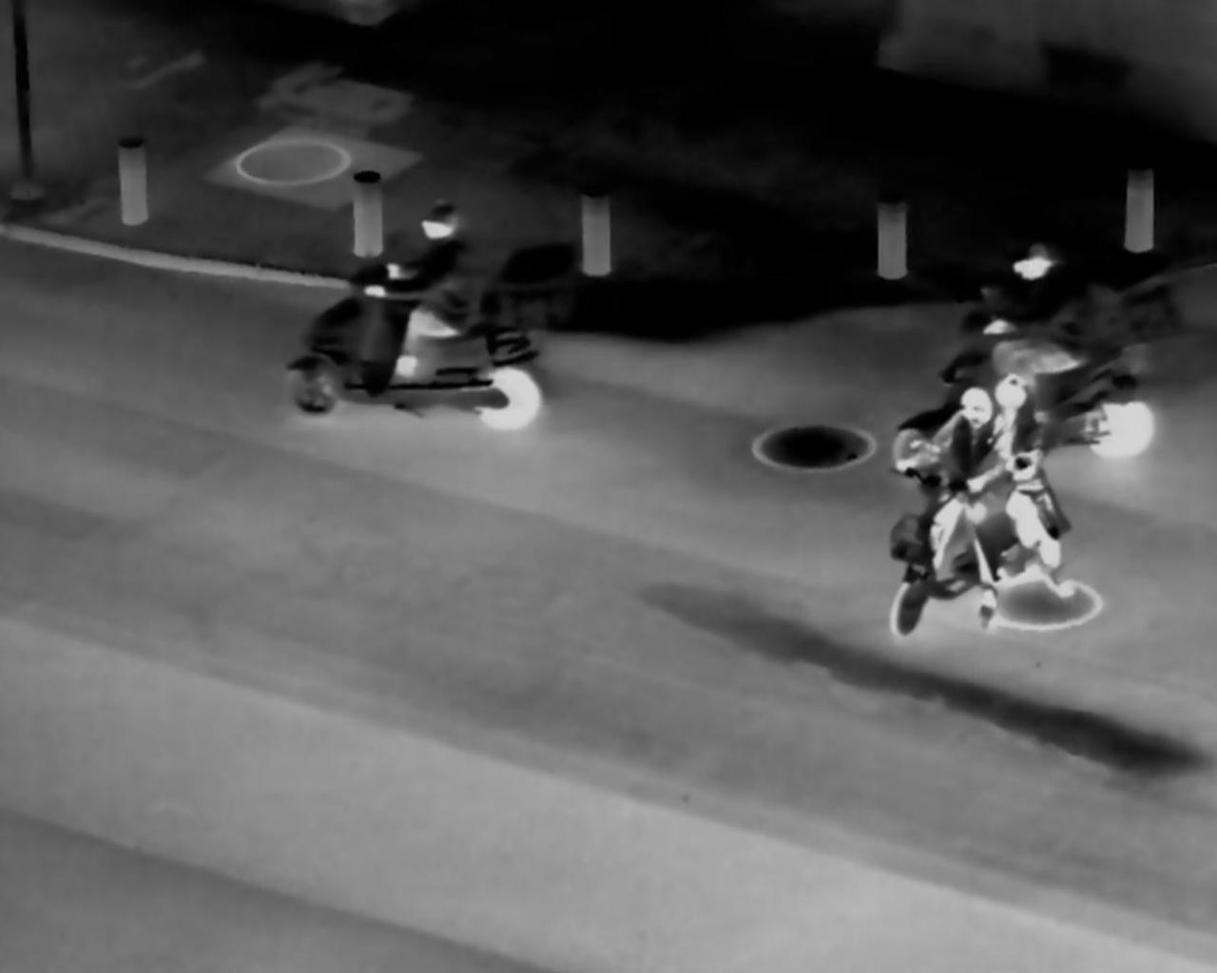person: (361, 188, 482, 403), (983, 370, 1083, 610), (995, 228, 1109, 417), (918, 381, 1011, 598)
